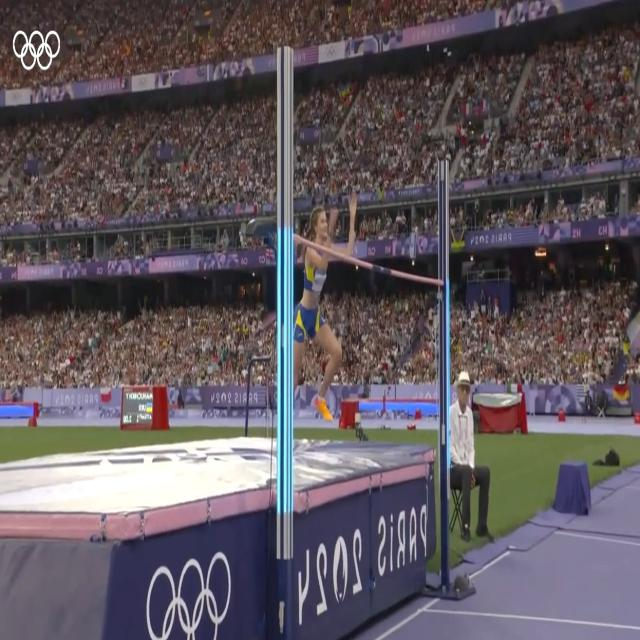land: (293, 192, 357, 424)
